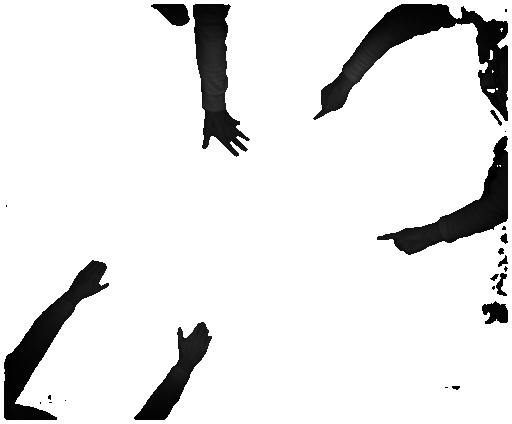hand: (202, 113, 255, 159), (69, 256, 111, 302), (176, 320, 215, 367), (376, 224, 429, 255), (312, 81, 351, 119)
